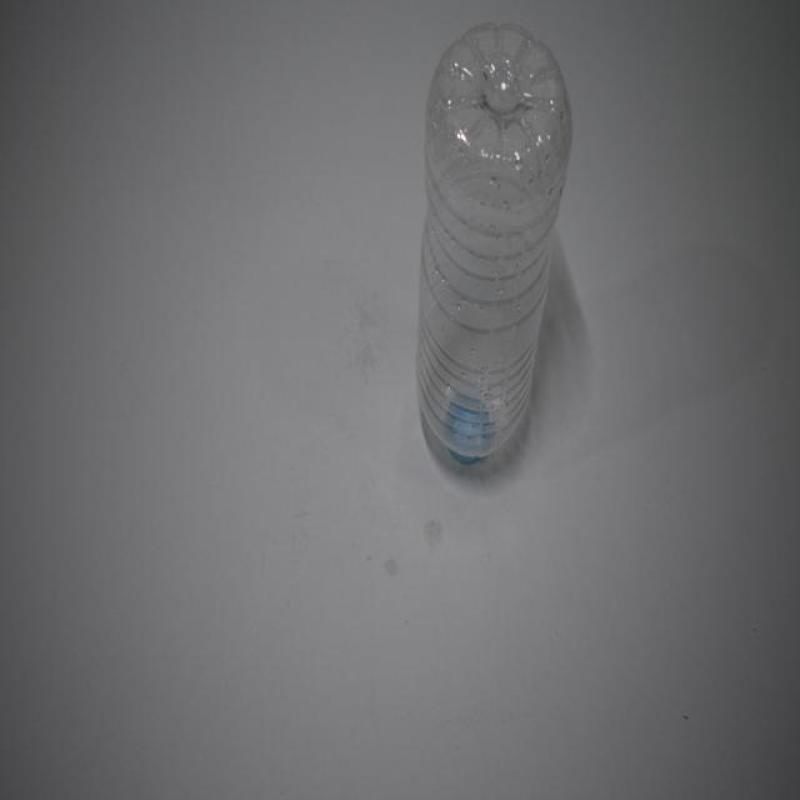botella: (419, 21, 573, 470)
